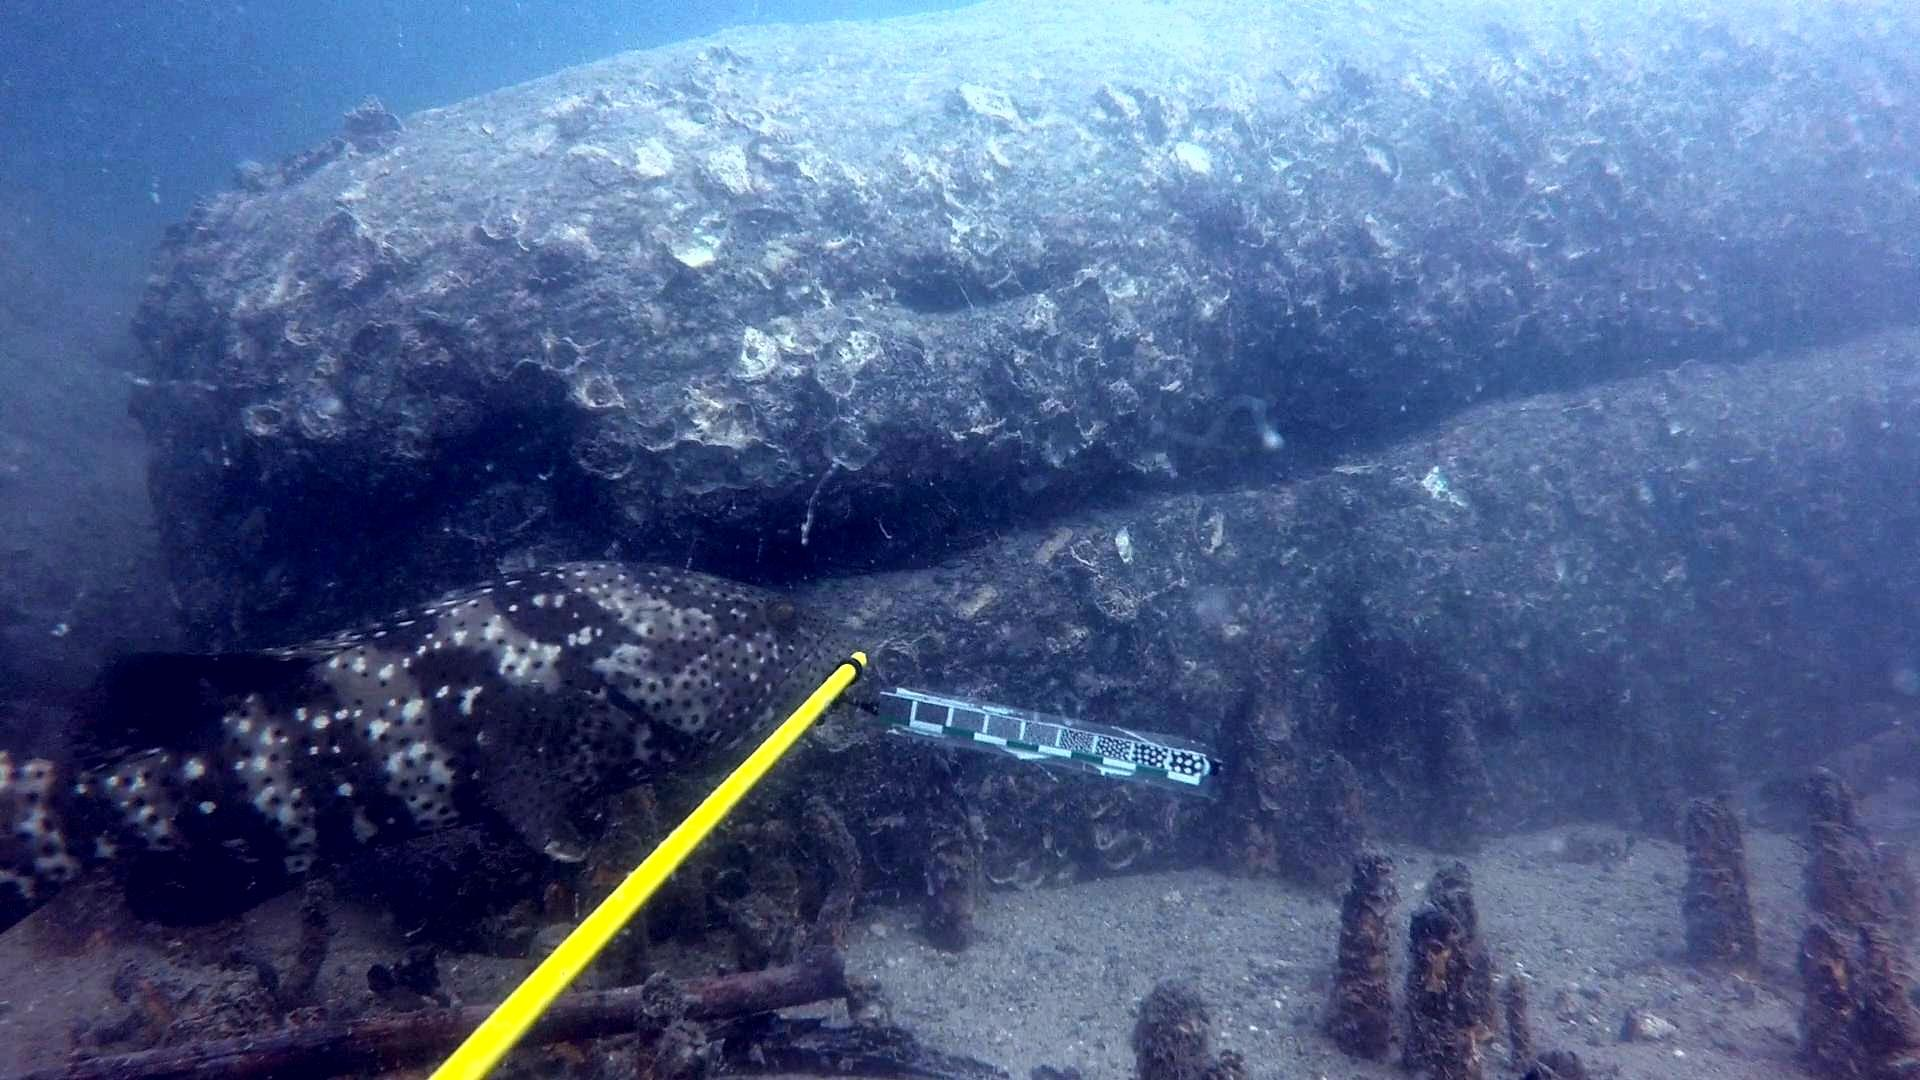epinephelus: (0, 554, 860, 932)
